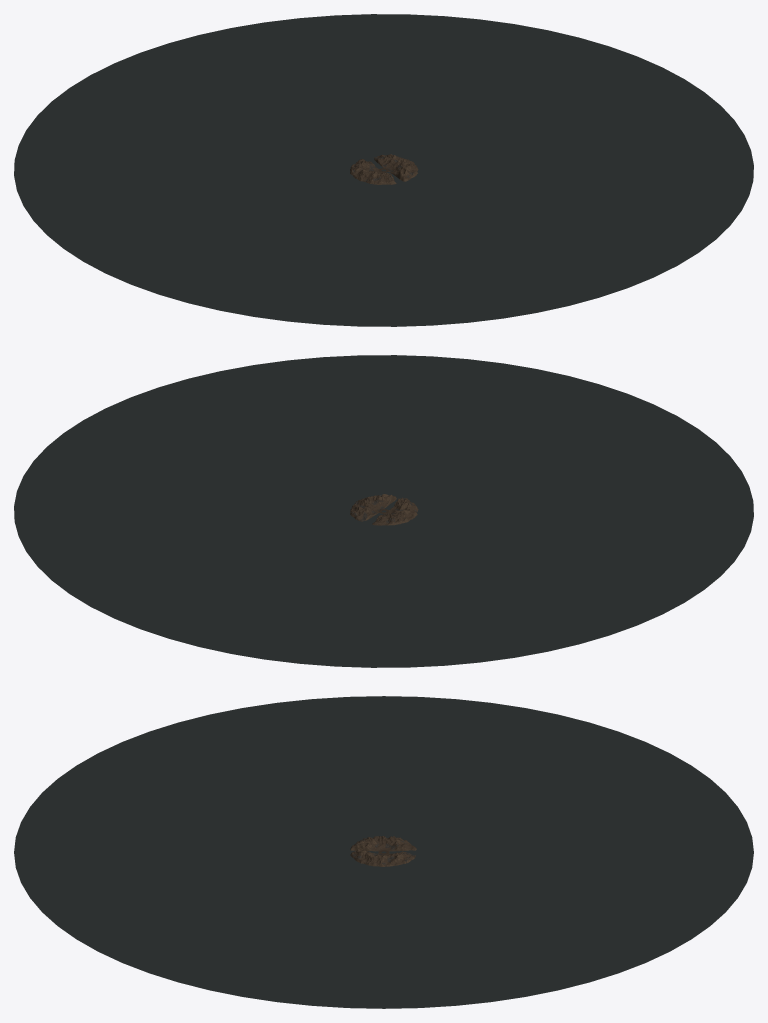
The model's file is backdrop_near_c42_dead.glb.
The picture shows the model from 3 angles, top to bottom: view 1: azimuth 30°, elevation 25°; view 2: azimuth 150°, elevation 25°; view 3: azimuth 270°, elevation 25°; orthographic projection.
Parts seen in each view (by area): view 1: water_N, water_S, water_W, water_E; view 2: water_N, water_S, water_W, water_E; view 3: water_E, water_N, water_S, water_W, near_land_E.
Boxes of the visible parts, x1,y1,x2,y2 form: water_N: [26, 14, 479, 170]; water_S: [288, 170, 741, 326]; water_W: [14, 130, 383, 321]; water_E: [384, 19, 753, 210]; water_N: [26, 511, 479, 667]; water_S: [288, 355, 741, 511]; water_W: [384, 471, 753, 662]; water_E: [14, 360, 383, 551]; water_E: [123, 852, 644, 1008]; water_N: [384, 742, 753, 962]; water_S: [14, 742, 383, 962]; water_W: [123, 696, 644, 852]; near_land_E: [360, 852, 407, 866].
Size of the model in its own units: 6000 by 167 by 6000.
Materials: 4 (3 with a texture image).
